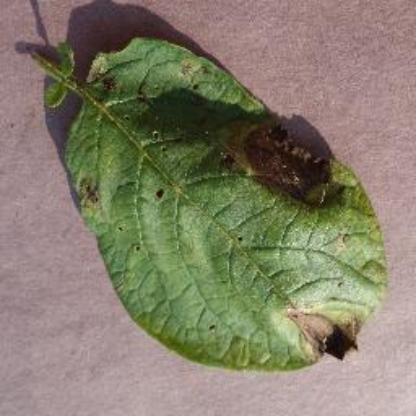Late-Blight: (20, 28, 400, 392)
